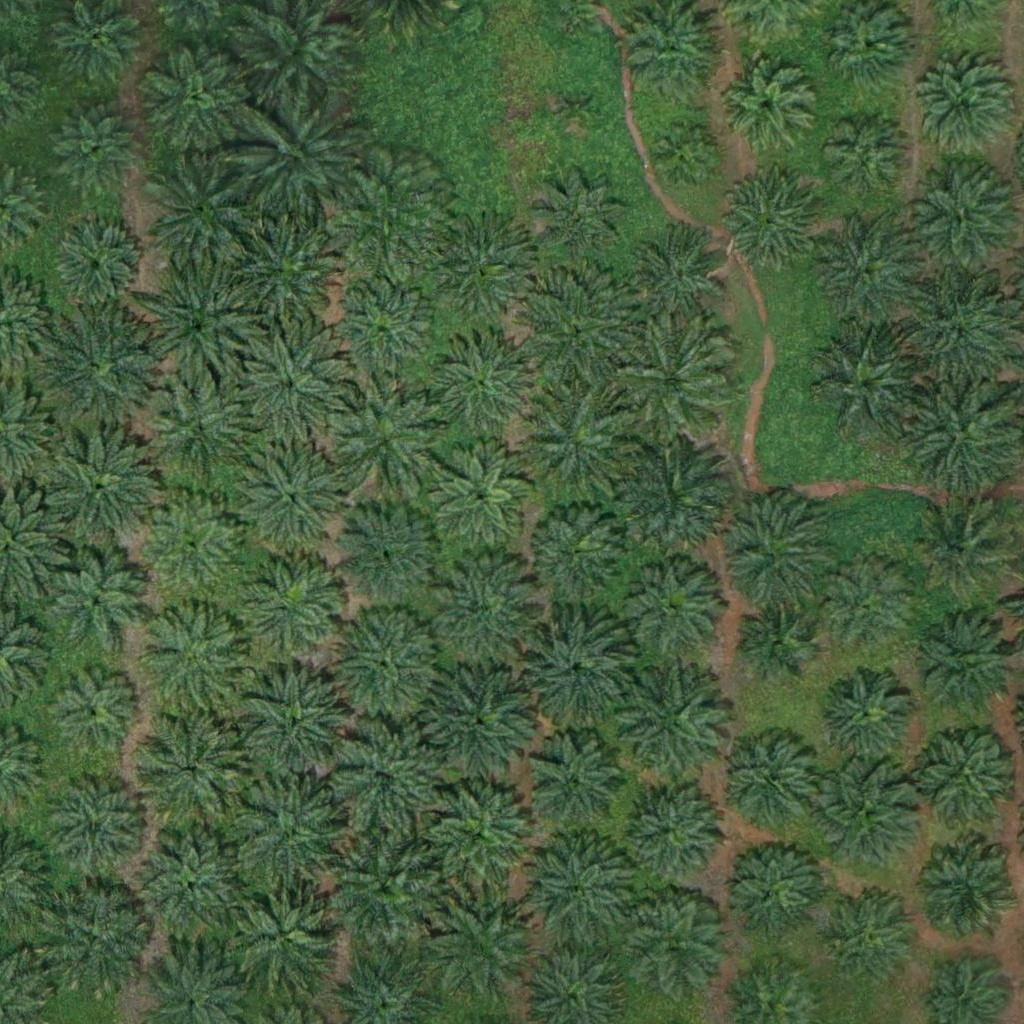Kelapa_Sawit: (332, 160, 445, 274), (244, 99, 357, 213), (613, 323, 726, 437), (717, 497, 830, 611), (909, 718, 1022, 832), (807, 757, 920, 871), (909, 166, 1022, 279), (45, 314, 158, 427), (43, 432, 156, 545), (139, 604, 252, 717), (131, 713, 244, 826), (224, 214, 337, 327), (327, 276, 440, 389), (331, 383, 444, 496), (328, 497, 441, 610), (431, 551, 544, 664), (423, 661, 536, 774), (902, 277, 1015, 390), (524, 836, 637, 949), (425, 782, 538, 895), (236, 781, 349, 894), (227, 880, 340, 993), (136, 832, 249, 945), (422, 208, 534, 322), (426, 323, 538, 437), (521, 275, 633, 389), (518, 383, 630, 497), (618, 436, 730, 550), (615, 551, 727, 665), (38, 886, 150, 1000), (523, 163, 635, 276), (140, 43, 252, 156), (147, 157, 259, 270), (142, 272, 254, 385), (144, 374, 256, 487), (233, 333, 345, 446), (234, 444, 346, 557), (239, 668, 351, 781), (327, 611, 439, 724), (328, 723, 440, 836), (519, 604, 631, 717), (617, 669, 729, 782), (811, 328, 923, 441), (907, 381, 1019, 494), (427, 893, 539, 1006), (330, 833, 442, 946), (917, 502, 1017, 603), (916, 51, 1016, 152), (817, 225, 917, 326), (717, 52, 817, 153), (719, 170, 819, 271), (626, 1, 726, 102), (44, 549, 144, 650), (140, 495, 240, 596), (240, 555, 340, 656), (430, 442, 530, 543), (525, 733, 625, 834), (625, 229, 725, 330), (824, 887, 924, 988), (722, 836, 822, 937), (622, 781, 722, 882), (623, 893, 723, 994), (47, 778, 147, 878), (526, 499, 626, 599), (715, 732, 815, 832), (817, 555, 917, 655), (814, 667, 914, 767), (914, 842, 1014, 942), (821, 115, 909, 204), (50, 105, 138, 193), (55, 222, 143, 310), (53, 668, 140, 756), (738, 601, 813, 677), (653, 124, 716, 187), (555, 89, 592, 127)
